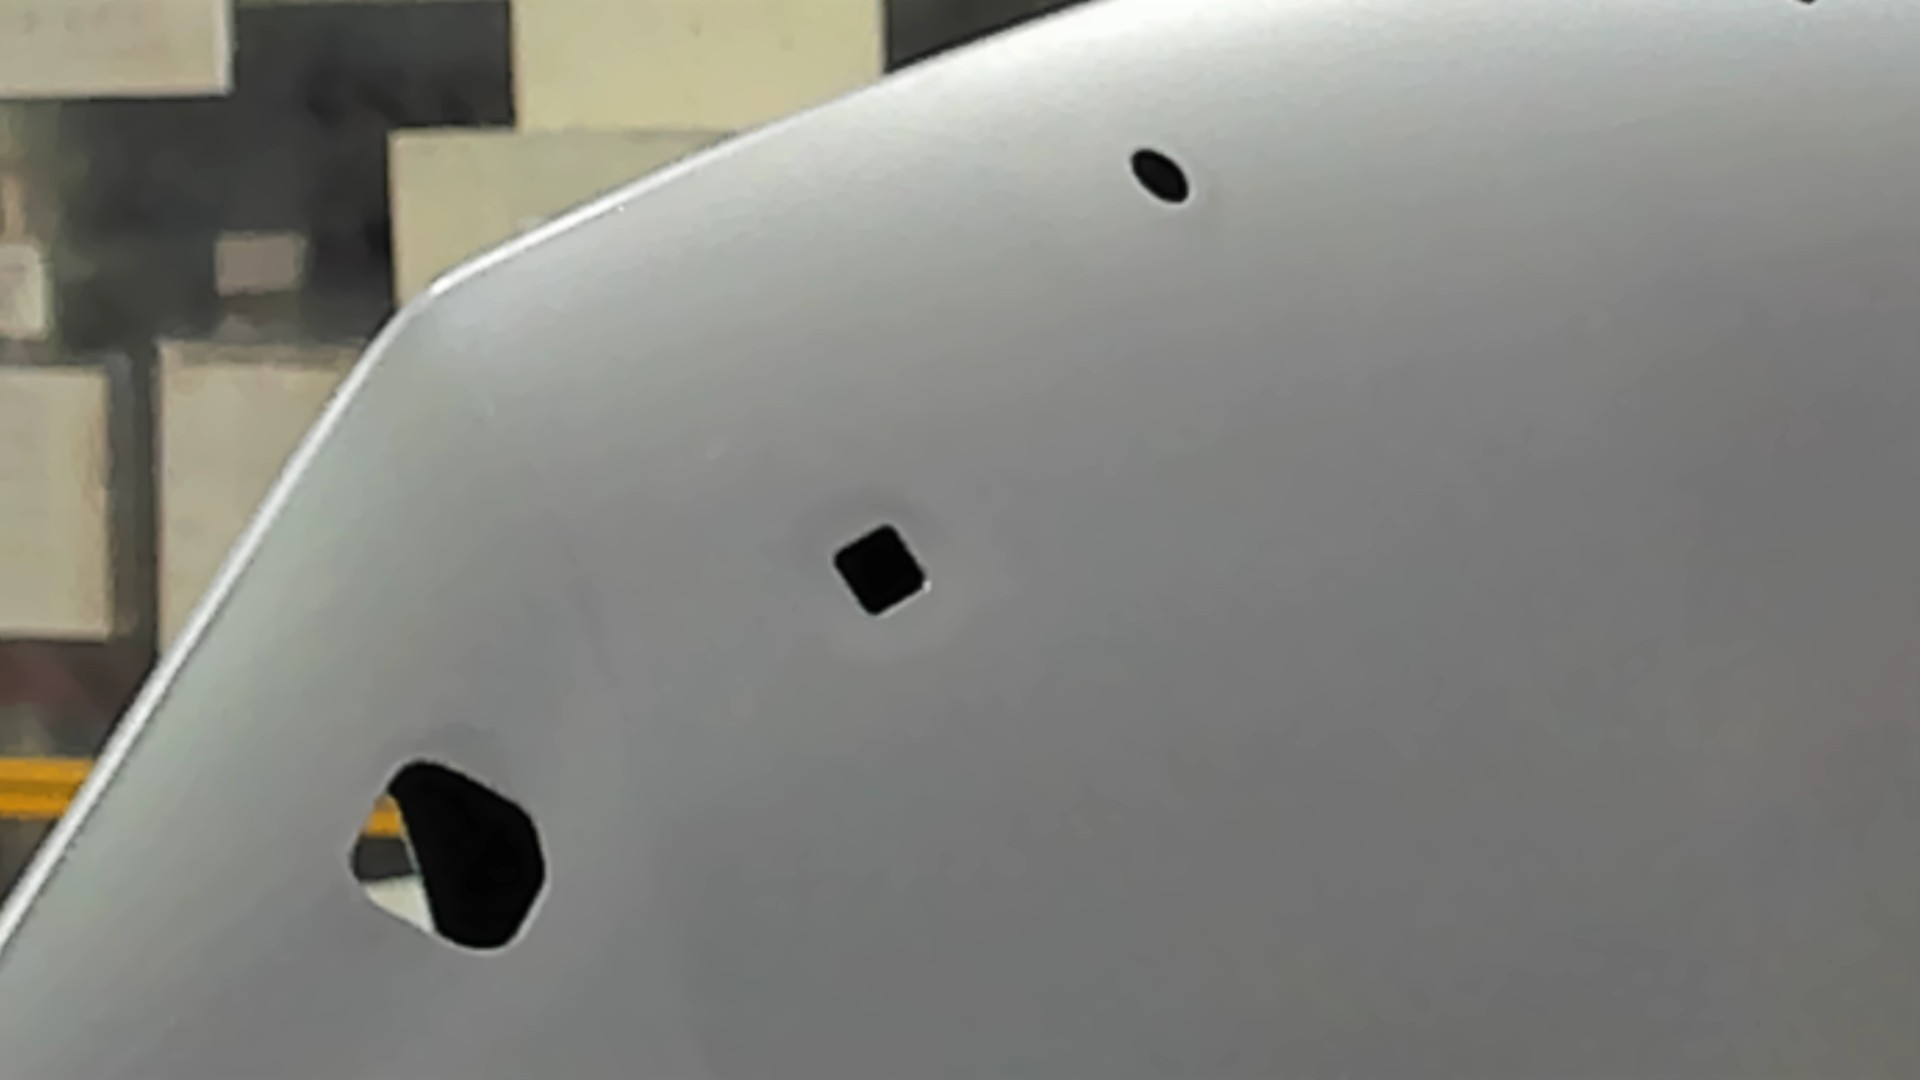chico: (1126, 141, 1193, 208)
grande: (348, 756, 554, 959)
mediano: (829, 524, 934, 621)
